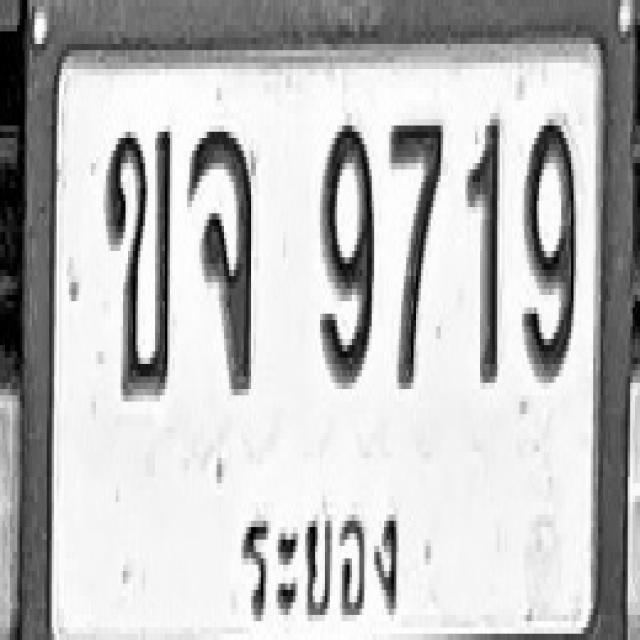1: (465, 113, 500, 383)
11KhorKhai: (105, 126, 171, 396)
17ChorChan: (188, 126, 252, 389)
7: (389, 116, 443, 386)
9: (319, 119, 373, 383), (522, 116, 576, 380)
Rayong: (229, 491, 418, 640)
